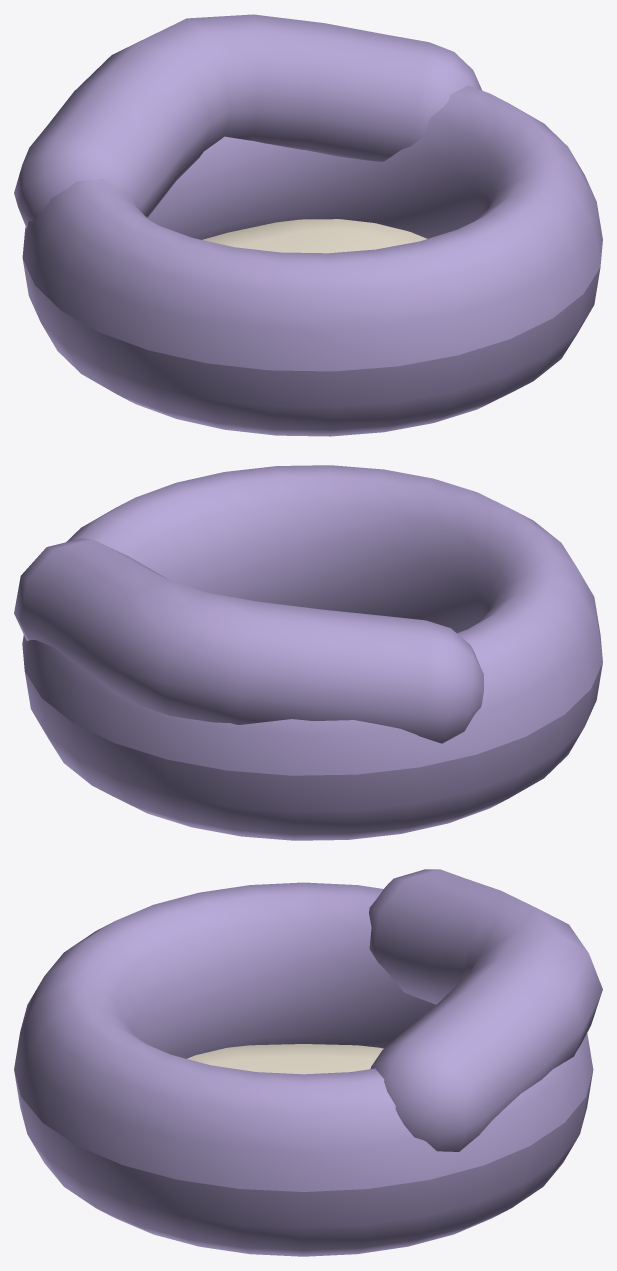
The model's file is petroom_bed_round.glb.
3 views of the same model, one above another, from view 1: azimuth 30°, elevation 25°; view 2: azimuth 150°, elevation 25°; view 3: azimuth 270°, elevation 25° (orthographic).
Visible parts, largest first — view 1: petroom_bed_round_mesh; view 2: petroom_bed_round_mesh; view 3: petroom_bed_round_mesh.
Boxes of the visible parts, x1,y1,x2,y2 form: petroom_bed_round_mesh: (14, 14, 602, 436); petroom_bed_round_mesh: (14, 465, 602, 840); petroom_bed_round_mesh: (14, 869, 602, 1256).
Bounding box in the file's own units: 0.6 × 0.2671 × 0.61.
